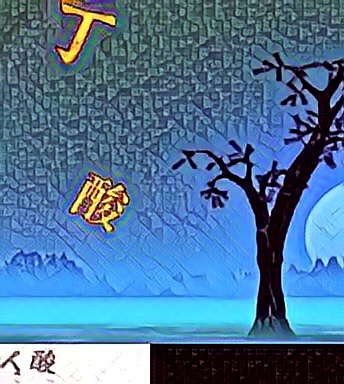B6A1: (50, 1, 119, 65)
CBE1: (65, 169, 134, 233)
